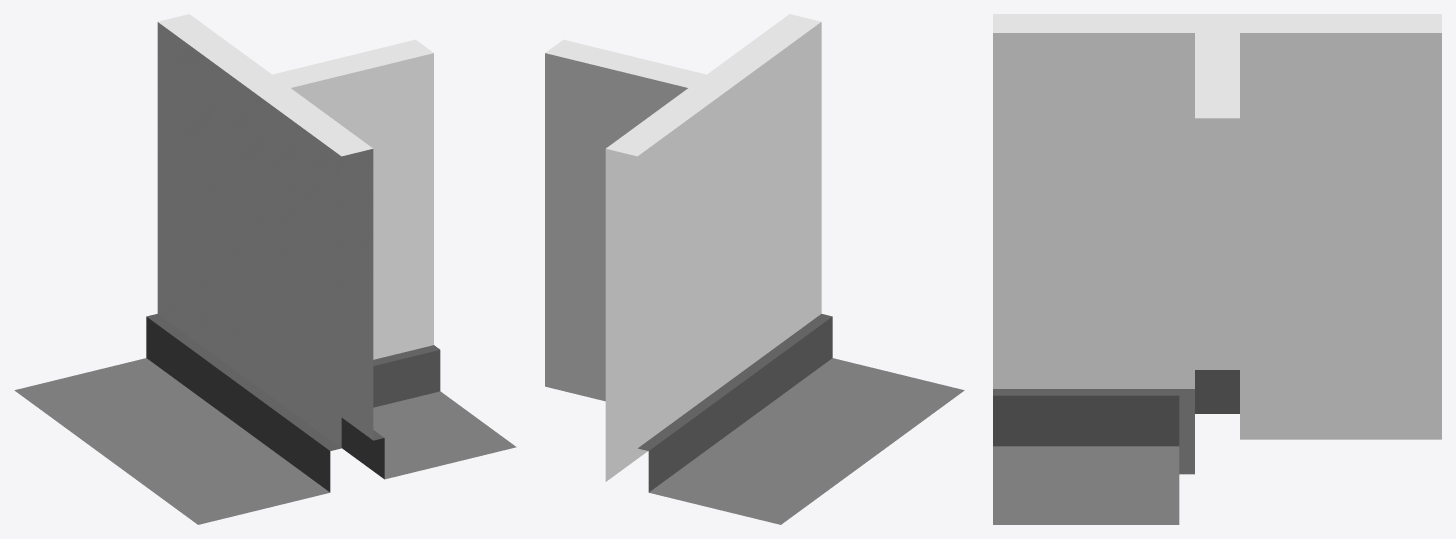
Rendered from I_Wall_T_Shape_Elevator_R.fbx.
3 views of the same model, side by side, from view 1: azimuth 30°, elevation 25°; view 2: azimuth 150°, elevation 25°; view 3: azimuth 270°, elevation 25° (orthographic). The views are drawn at different scales.
Visible parts, largest first — view 1: I_Wall_T_Shape_Elevator_R; view 2: I_Wall_T_Shape_Elevator_R; view 3: I_Wall_T_Shape_Elevator_R.
Part boxes in pixels (bbox=[...]): I_Wall_T_Shape_Elevator_R: bbox=[14, 14, 516, 524]; I_Wall_T_Shape_Elevator_R: bbox=[545, 14, 964, 524]; I_Wall_T_Shape_Elevator_R: bbox=[993, 14, 1441, 524].
Bounding box in the file's own units: 200 × 200 × 200.
